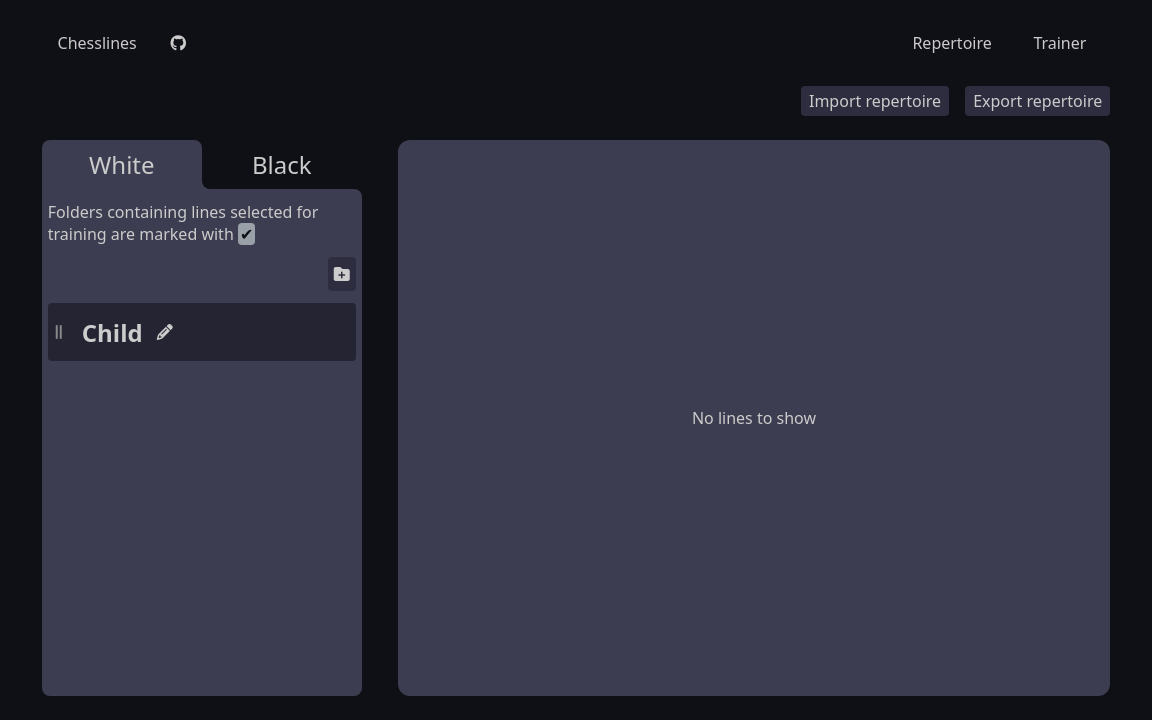
Scenario: Lines panel › Displays special text for lines with empty PGNs
The width and height of the screenshot is (1152, 720).
Click the button named "open child folder in lines panel" at (213,332), box left=70, top=303, right=356, bottom=361
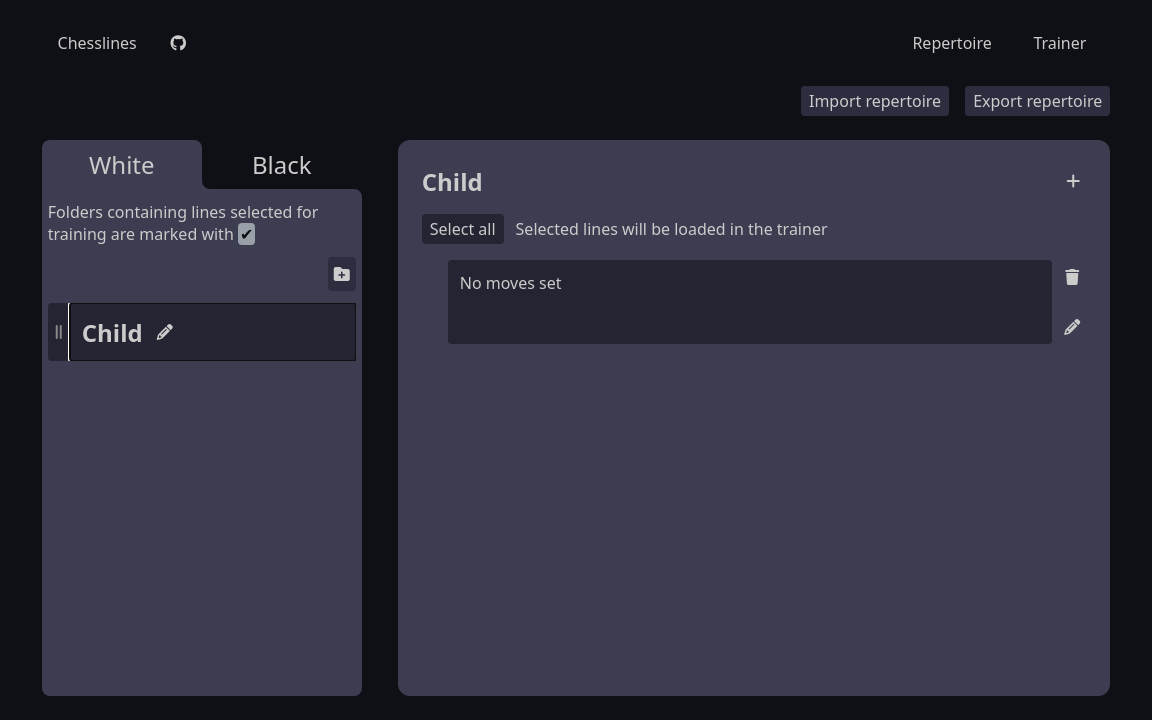
expect the text "No moves set" is shown: met, box left=460, top=272, right=562, bottom=294
